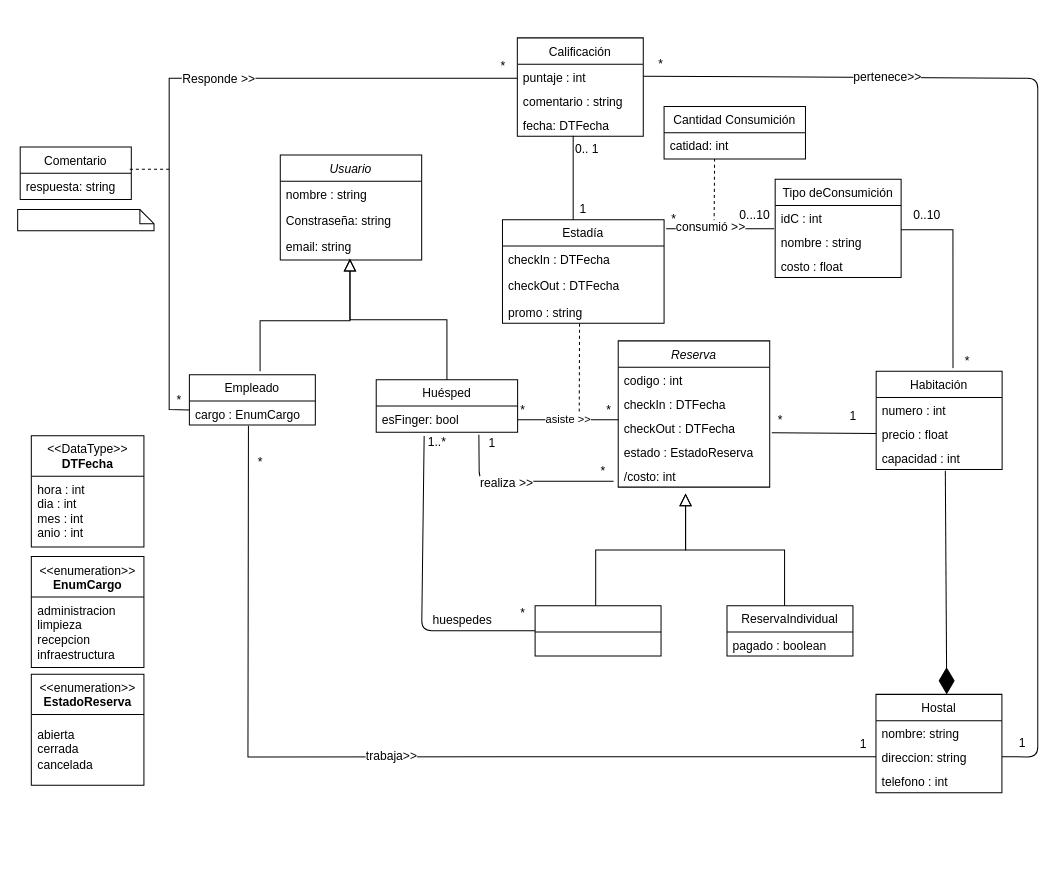
Image size: 1059x873. Some labels were removed from this diagram. The shapes that lost their labels are listed below. From the top down, each one's centre as x and y in pixels, then its label:
At pixel 85 220: "Respuesta a Huésped".
At pixel 597 630: "ReservaGrupal".
